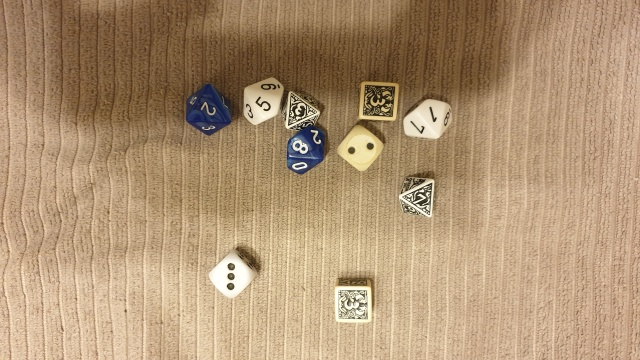d10-1: (398, 91, 458, 146)
d10-2: (182, 81, 236, 138)
d10-5: (236, 73, 281, 128)
d10-8: (280, 122, 328, 181)
d6-2: (334, 122, 385, 177)
d6-3: (205, 247, 261, 301)
d6p-3: (332, 274, 375, 326), (354, 77, 399, 123)
d8p-3: (279, 89, 322, 134)
d8p-7: (397, 171, 440, 221)
